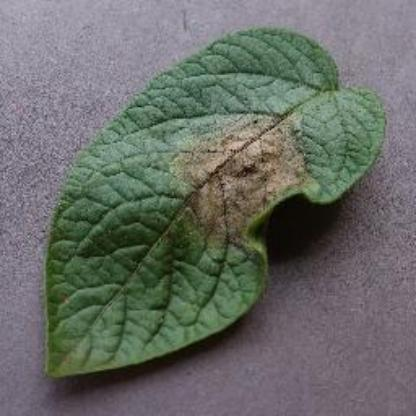Late-Blight: (35, 17, 399, 388)
